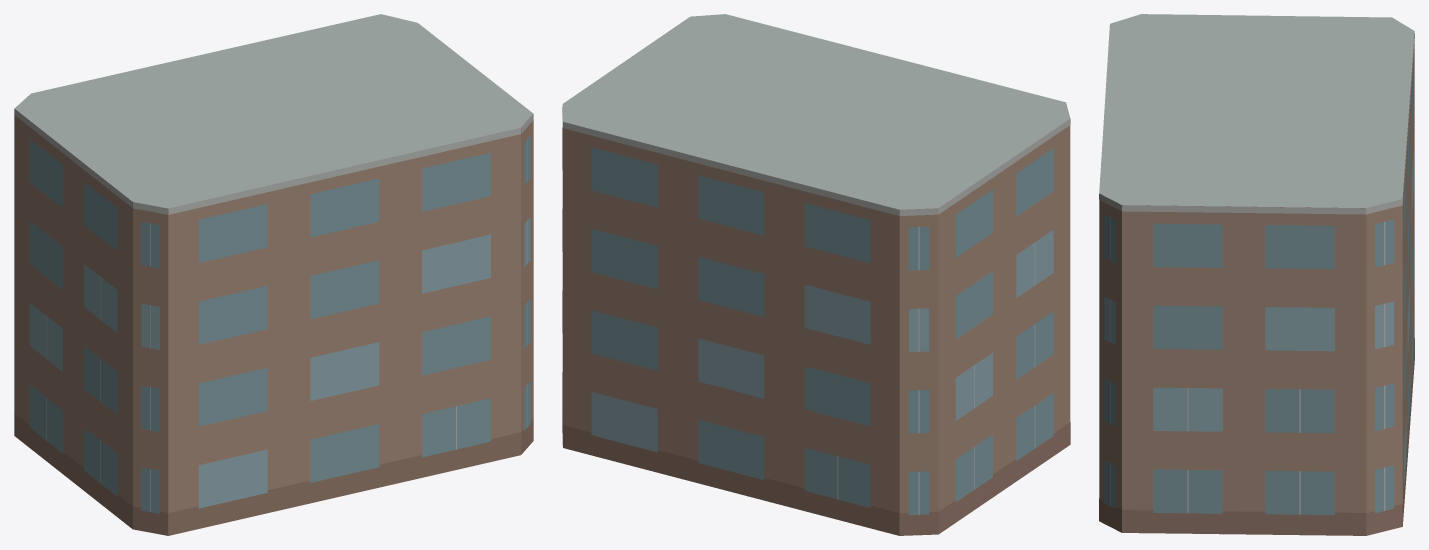
The model's file is survey-upis-32603306.glb.
The picture shows the model from 3 angles, left to right: view 1: azimuth 30°, elevation 25°; view 2: azimuth 150°, elevation 25°; view 3: azimuth 270°, elevation 25°; orthographic projection.
Parts seen in each view (by area): view 1: survey-upis-32603306.tmp; view 2: survey-upis-32603306.tmp; view 3: survey-upis-32603306.tmp.
Part boxes in pixels (x1,y1,x2,y2): survey-upis-32603306.tmp: [14, 14, 533, 535]; survey-upis-32603306.tmp: [562, 14, 1070, 535]; survey-upis-32603306.tmp: [1099, 14, 1414, 535].
Size of the model in its own units: 15.95 by 12.55 by 10.96.
